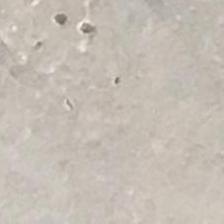Non_Crack: (22, 63, 203, 203)
